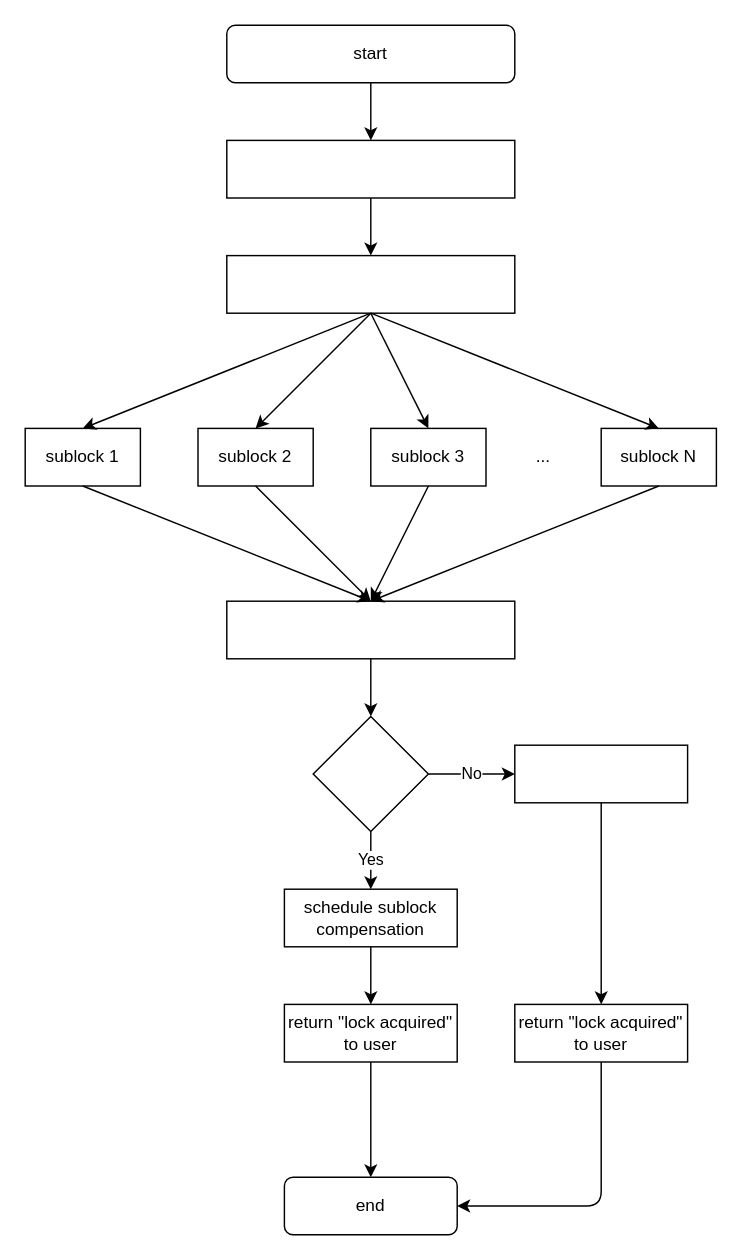
Some shapes in this 742 by 1260 pixel diagram are drawn without their labels. The centre of each missing label's shape, as x and y in pixels:
"Quorum number of locks succeded" goes at point (370, 773).
"schedule sublock cleanup" goes at point (600, 773).
"system triggers N sublocks" goes at point (370, 283).
"user wants to acquire a lock" goes at point (370, 168).
"wait sublock results" goes at point (370, 629).
